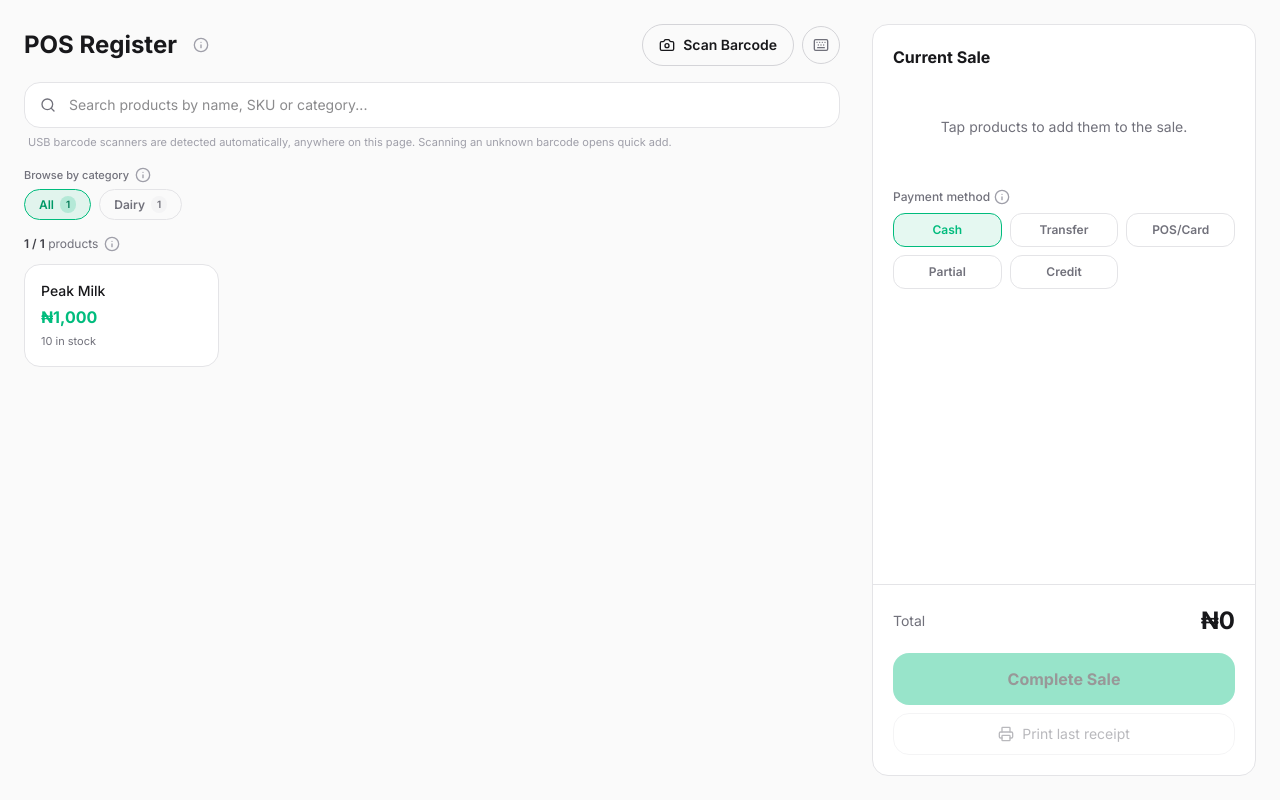
Test: POS credit payment methods › hides the credit fields again when a till method is picked
Click the button "Peak Milk ₦1,000 10 in stock" at (122, 316), box [24, 264, 219, 367]
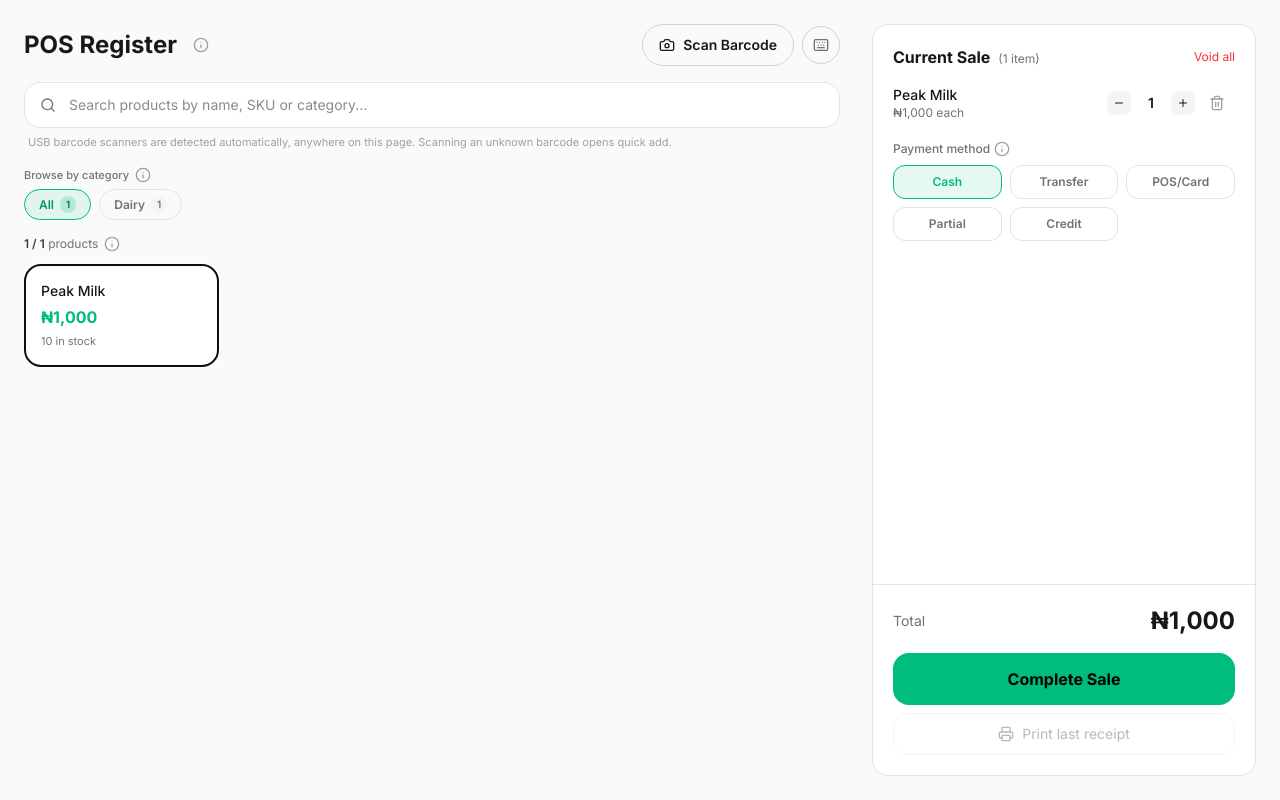
Click the radio button labelled "Credit" at (1064, 224), box [1010, 207, 1118, 241]
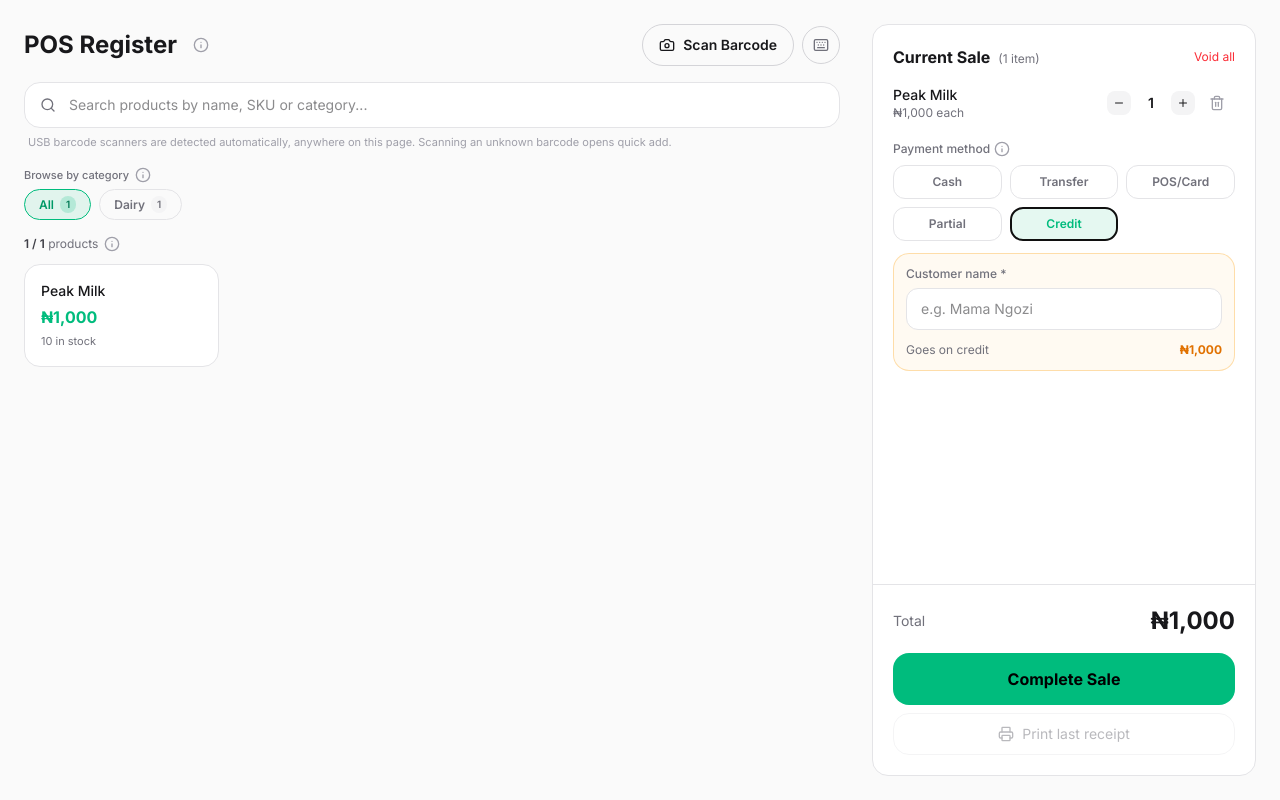
Expected: the field labelled "Customer name *" is shown, [906, 288, 1222, 330]
Click the radio button labelled "Cash" at (947, 182), box [893, 165, 1002, 199]
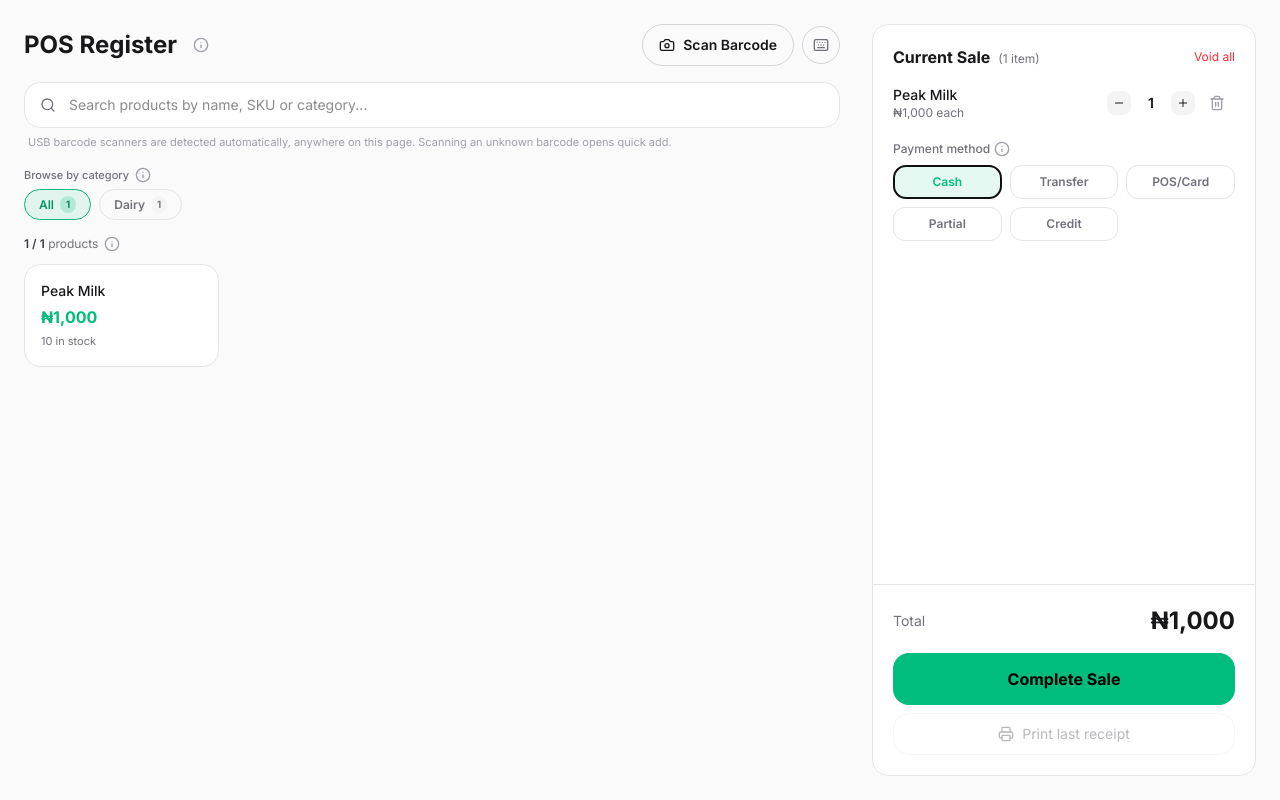
Expected: the label labelled "Customer name" is gone
